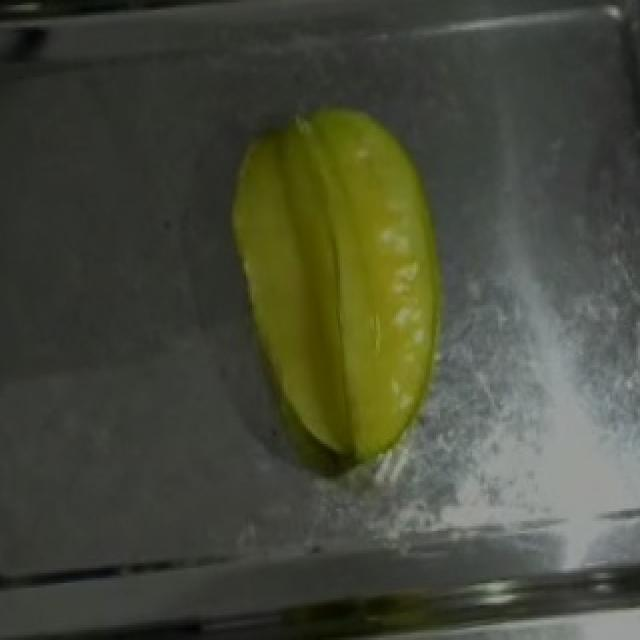fruit: (204, 82, 502, 486)
